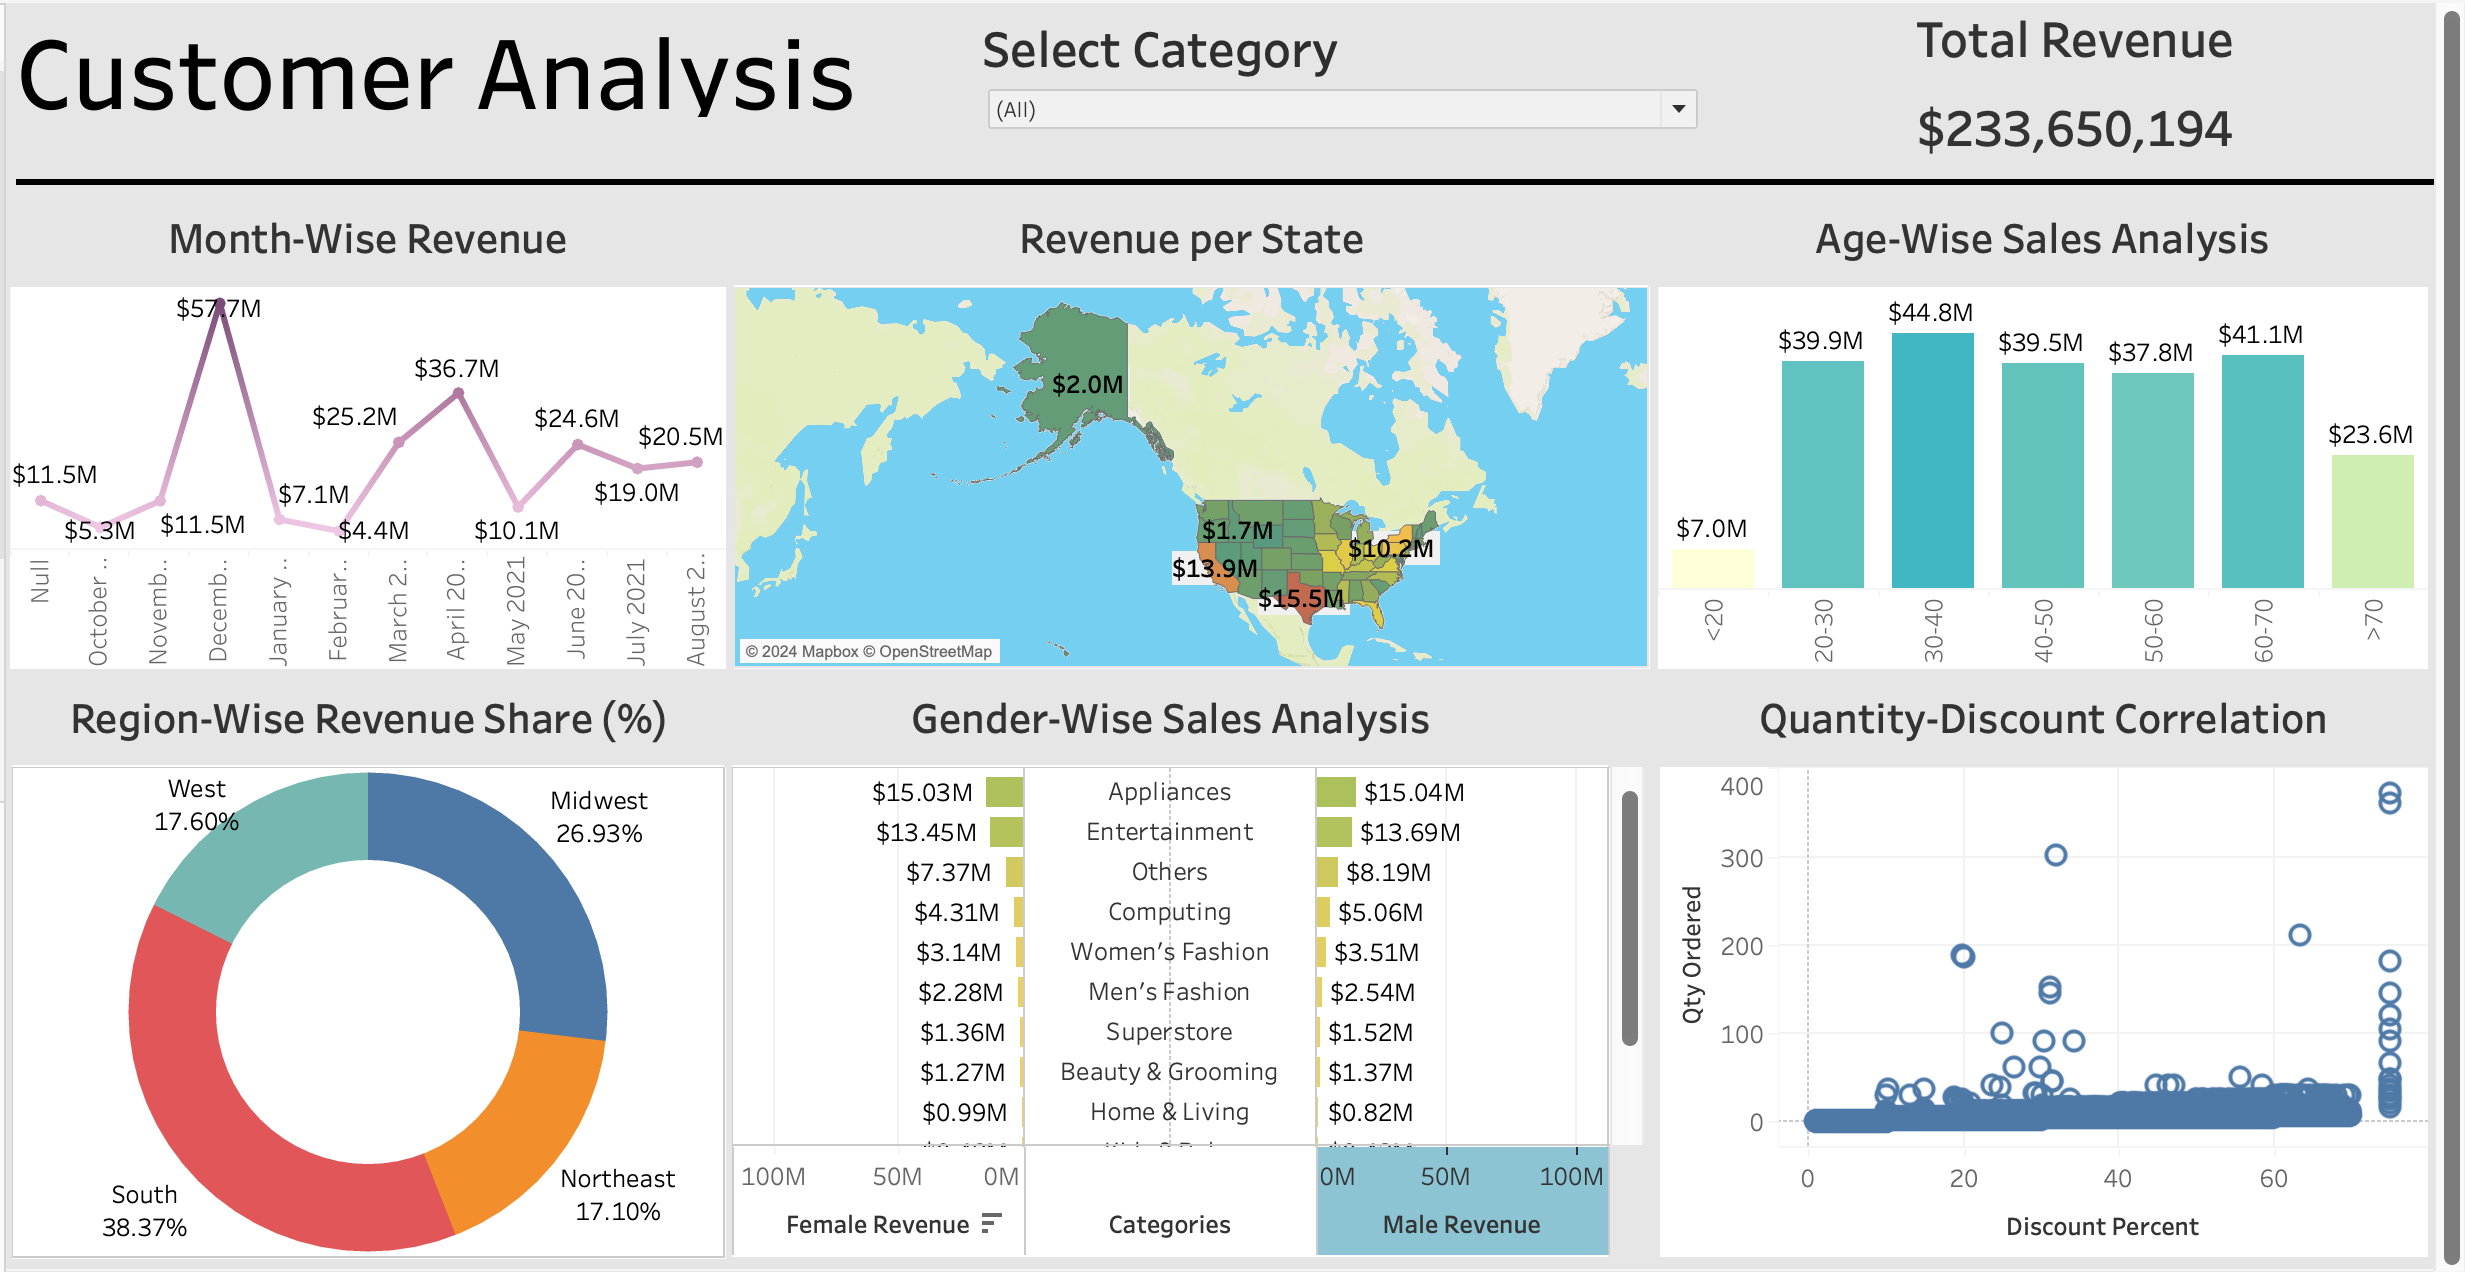

The page's visual inventory and layout, read from the dashboard file:
{"tool":"tableau","page":{"name":"Customer Analysis Dashboard","canvas":[1000,1000],"units":"permille","ordinal":0},"visuals":[{"type":"filter","title":"Gender-Wise Sales Analysis","param":"[federated.11t2tsd0s9yp821c714bs1h501n4].[none:category:nk]","box":[400,11,295.9,123]},{"type":"text","box":[1.6,17.4,467.2,74.1]},{"type":"blank","box":[4.1,140.4,995.1,4.7]},{"type":"worksheet","title":"Month-Wise Revenue","mark":"Automatic","rows":["total"],"cols":["month"],"box":[1.6,157.7,293.4,369.1]},{"type":"worksheet","title":"Revenue per State","mark":"Automatic","box":[298.4,157.7,375.4,369.1]},{"type":"worksheet","title":"Age-Wise Sales Analysis","mark":"Automatic","rows":["total"],"cols":["Age (bin)"],"box":[677.1,157.7,315.6,369.1]},{"type":"worksheet","title":"Region-Wise Revenue Share (%)","mark":"Pie","rows":["Calculation_149744732946124800","Calculation_149744732946124800"],"box":[2.5,536.3,292.6,455.8]},{"type":"worksheet","title":"Gender-Wise Sales Analysis","mark":"Automatic","rows":["category"],"cols":["Calculation_149744732948492289","Calculation_149744732946124800","Calculation_149744732948893698"],"box":[297.5,536.3,374.6,454.3]},{"type":"worksheet","title":"Quantity-Discount Correlation","mark":"Automatic","rows":["qty_ordered"],"cols":["Discount_Percent"],"box":[677.9,536.3,314.8,454.3]}]}

Visuals, with their boxes on the dashboard's canvas, which has no fixed pixel size, in thousandths of its width and height (x1, y1, x2, y2). These are canvas units, not pixel positions in the 2465x1272 screenshot, which may show the page scaled, cropped or inside an application window:
"Gender-Wise Sales Analysis" filter: [400, 11, 696, 134]
text: [2, 17, 469, 92]
blank: [4, 140, 999, 145]
"Month-Wise Revenue" worksheet: [2, 158, 295, 527]
"Revenue per State" worksheet: [298, 158, 674, 527]
"Age-Wise Sales Analysis" worksheet: [677, 158, 993, 527]
"Region-Wise Revenue Share (%)" worksheet (Pie marks): [2, 536, 295, 992]
"Gender-Wise Sales Analysis" worksheet: [298, 536, 672, 991]
"Quantity-Discount Correlation" worksheet: [678, 536, 993, 991]
